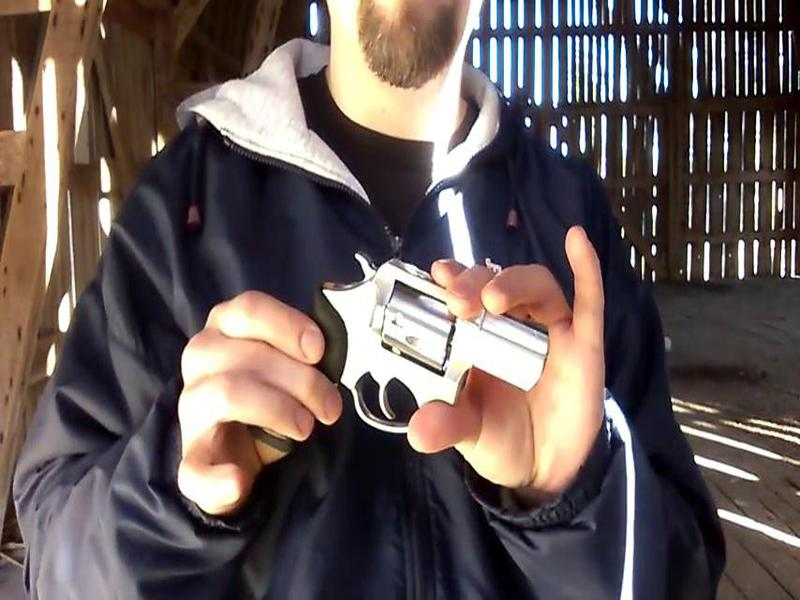Revolver: (245, 239, 559, 479)
